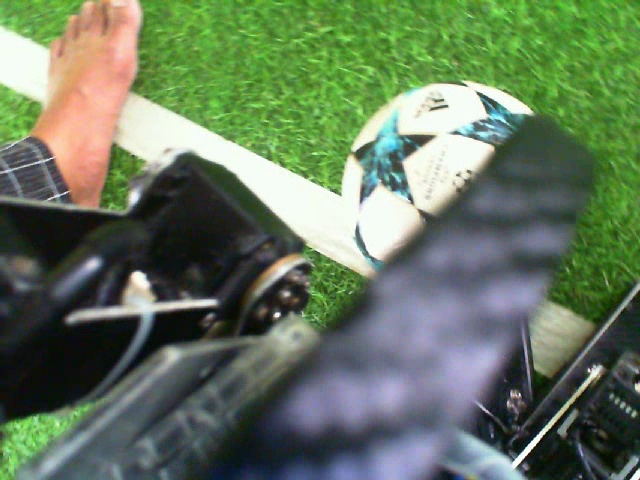ball: (339, 78, 540, 287)
